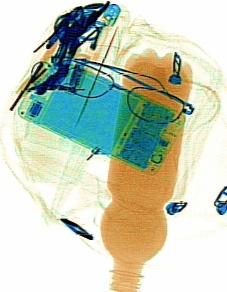lighter: (81, 2, 120, 73)
